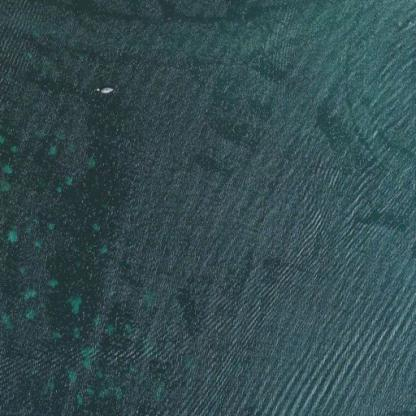ship: (98, 85, 111, 94)
